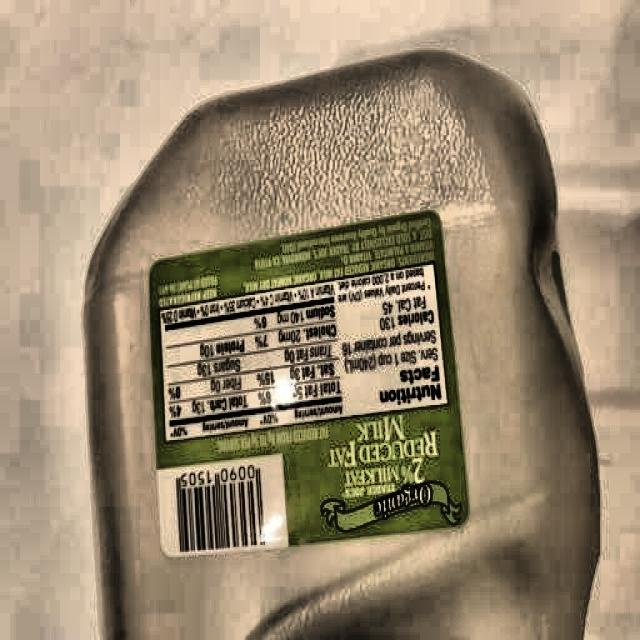plastic: (80, 47, 600, 640)
